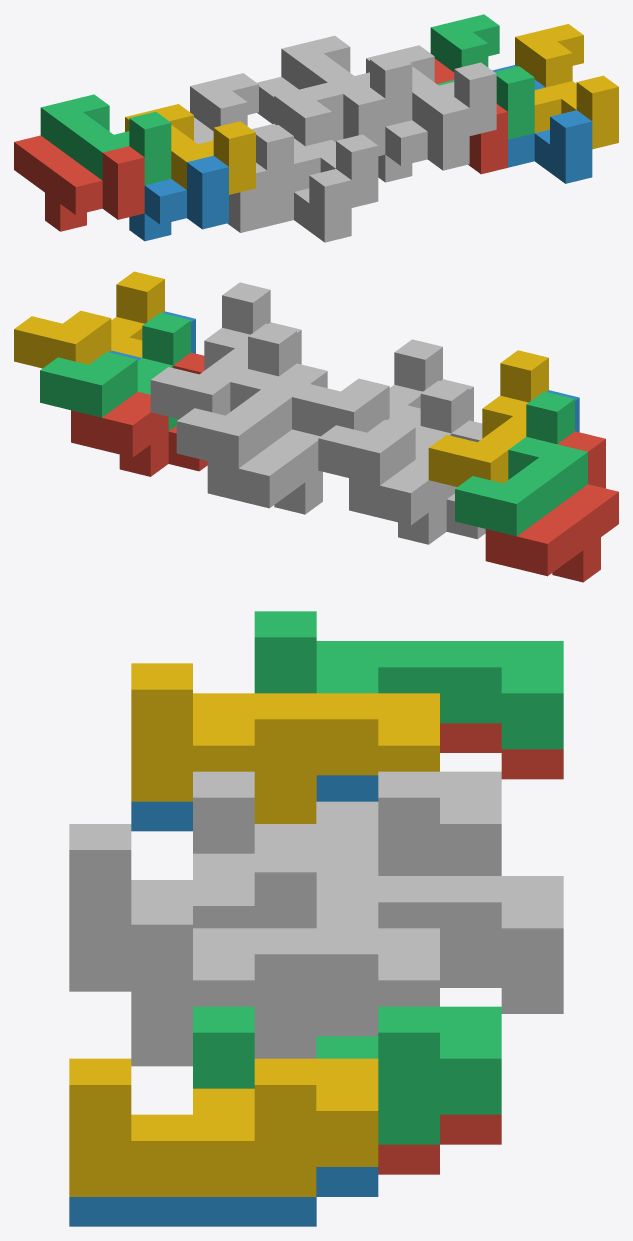
The model's file is tiling.obj.
3 views of the same model, one above another, from view 1: azimuth 30°, elevation 25°; view 2: azimuth 150°, elevation 25°; view 3: azimuth 270°, elevation 25° (orthographic). The views are drawn at different scales.
Visible parts, largest first — view 1: copy_1_domain_1, copy_2_domain_4, copy_2_domain_8, copy_1_domain_3, copy_1_domain_7, copy_2_domain_7, copy_2_domain_3, copy_1_domain_2, copy_1_domain_6, copy_1_domain_8, copy_1_domain_4, copy_2_domain_6 (+4 smaller); view 2: copy_1_domain_3, copy_1_domain_7, copy_1_domain_1, copy_2_domain_3, copy_2_domain_7, copy_2_domain_4, copy_2_domain_8, copy_1_domain_4, copy_1_domain_8, copy_1_domain_5, copy_2_domain_5, copy_2_domain_1; view 3: copy_2_domain_8, copy_1_domain_4, copy_1_domain_8, copy_1_domain_3, copy_1_domain_7, copy_2_domain_7, copy_2_domain_3, copy_2_domain_4, copy_2_domain_6, copy_2_domain_5, copy_1_domain_1, copy_1_domain_5 (+3 smaller).
Part boxes in pixels (bbox=[...]): copy_1_domain_1: bbox=[14, 135, 144, 231]; copy_2_domain_4: bbox=[274, 82, 378, 207]; copy_2_domain_8: bbox=[515, 24, 618, 149]; copy_1_domain_3: bbox=[40, 94, 171, 185]; copy_1_domain_7: bbox=[281, 35, 412, 126]; copy_2_domain_7: bbox=[430, 14, 534, 139]; copy_2_domain_3: bbox=[190, 73, 293, 198]; copy_1_domain_2: bbox=[129, 155, 228, 241]; copy_1_domain_6: bbox=[378, 97, 469, 182]; copy_1_domain_8: bbox=[366, 45, 496, 135]; copy_1_domain_4: bbox=[125, 104, 255, 194]; copy_2_domain_6: bbox=[492, 65, 592, 183]; copy_1_domain_3: bbox=[455, 391, 587, 536]; copy_1_domain_7: bbox=[176, 323, 309, 468]; copy_1_domain_1: bbox=[485, 431, 618, 582]; copy_2_domain_3: bbox=[318, 380, 469, 498]; copy_2_domain_7: bbox=[40, 312, 190, 430]; copy_2_domain_4: bbox=[292, 339, 442, 436]; copy_2_domain_8: bbox=[14, 271, 164, 368]; copy_1_domain_4: bbox=[428, 350, 548, 486]; copy_1_domain_8: bbox=[150, 282, 270, 419]; copy_1_domain_5: bbox=[207, 363, 327, 514]; copy_2_domain_5: bbox=[71, 352, 207, 476]; copy_2_domain_1: bbox=[349, 420, 485, 544]; copy_2_domain_8: bbox=[69, 1058, 378, 1196]; copy_1_domain_4: bbox=[131, 663, 439, 823]; copy_1_domain_8: bbox=[131, 898, 439, 1058]; copy_1_domain_3: bbox=[254, 611, 563, 749]; copy_1_domain_7: bbox=[254, 846, 563, 984]; copy_2_domain_7: bbox=[193, 1006, 501, 1144]; copy_2_domain_3: bbox=[193, 771, 501, 875]; copy_2_domain_4: bbox=[69, 824, 378, 961]; copy_2_domain_6: bbox=[69, 1167, 378, 1226]; copy_2_domain_5: bbox=[378, 1114, 501, 1174]; copy_1_domain_1: bbox=[440, 723, 563, 779]; copy_1_domain_5: bbox=[440, 958, 563, 1013].
Size of the model in its own units: 19 by 4 by 8.
